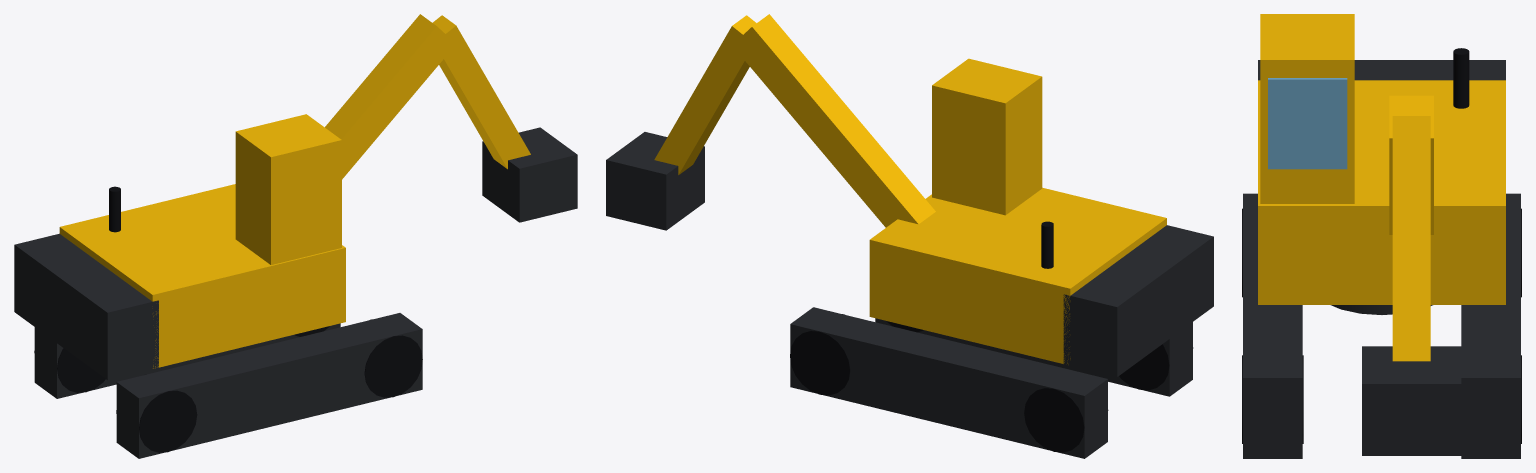
Rendered from demo-excavator.glb.
The picture shows the model from 3 angles, left to right: view 1: azimuth 30°, elevation 25°; view 2: azimuth 150°, elevation 25°; view 3: azimuth 270°, elevation 25°; orthographic projection. The views are drawn at different scales.
Size of the model in its own units: 7.9 by 4.54 by 2.82.
